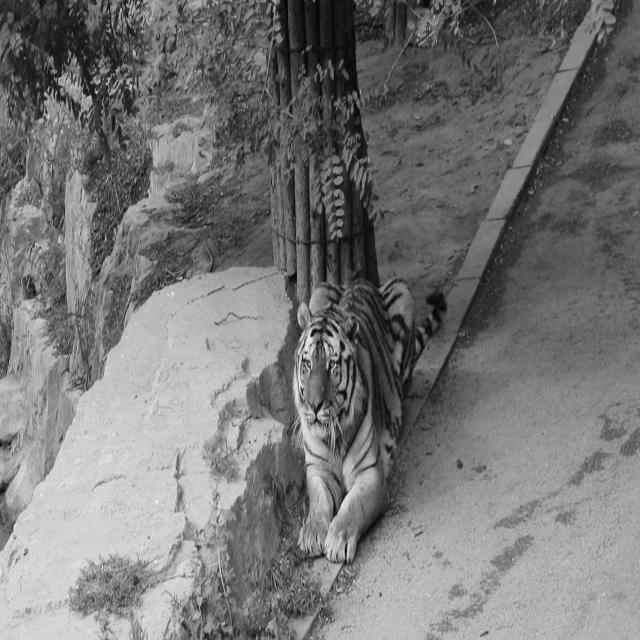Tiger: (289, 269, 447, 565)
